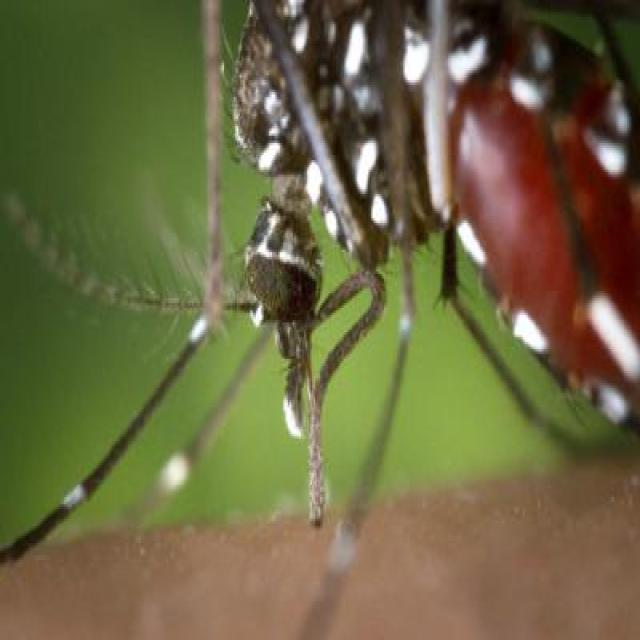antennae: (6, 180, 258, 340)
body: (232, 0, 640, 432)
insect: (1, 2, 640, 572)
legs: (8, 9, 235, 579)
mouthpart: (259, 272, 387, 532)
